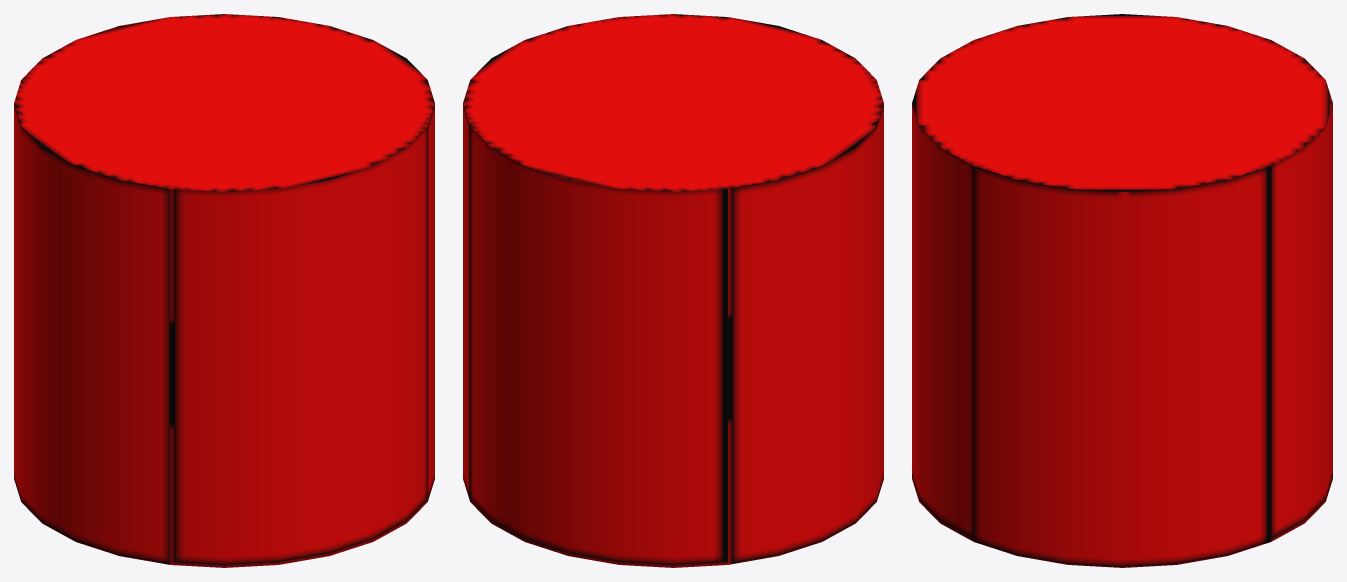
File: Alniyat_Habitation_2_1_Interior.obj
3 views of the same model, side by side, from view 1: azimuth 30°, elevation 25°; view 2: azimuth 150°, elevation 25°; view 3: azimuth 270°, elevation 25° (orthographic).
Parts seen in each view (by area): view 1: Alniyat_Habitation_2_1_Interior; view 2: Alniyat_Habitation_2_1_Interior; view 3: Alniyat_Habitation_2_1_Interior.
Boxes of the visible parts, box(x1,y1,x2,y2) form: Alniyat_Habitation_2_1_Interior: box(14, 14, 434, 567); Alniyat_Habitation_2_1_Interior: box(463, 14, 883, 567); Alniyat_Habitation_2_1_Interior: box(912, 14, 1332, 567).
Size of the model in its own units: 1.22 by 1.21 by 1.22.
1 material, 1 textured.
